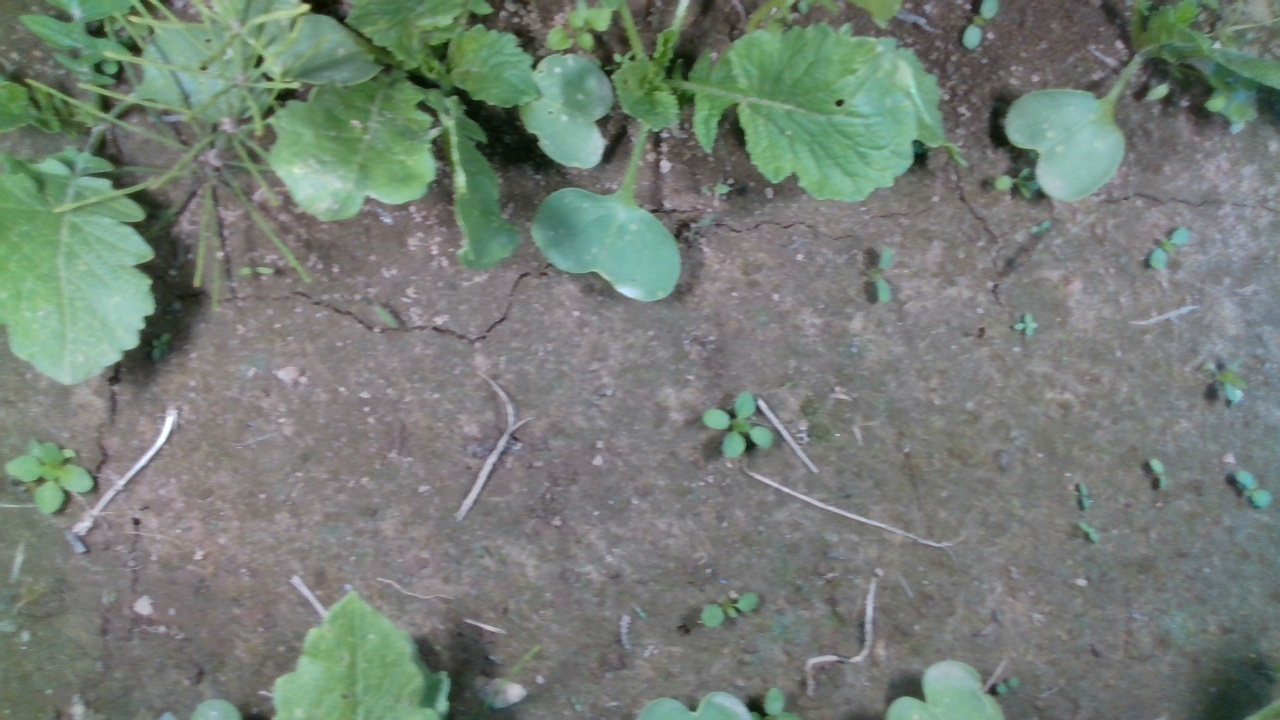weed: (699, 387, 775, 461), (697, 591, 759, 629), (1147, 224, 1189, 270), (1231, 466, 1273, 511), (873, 243, 893, 304), (1011, 309, 1039, 340), (1148, 457, 1169, 495), (1077, 520, 1100, 544), (1077, 481, 1091, 513)
